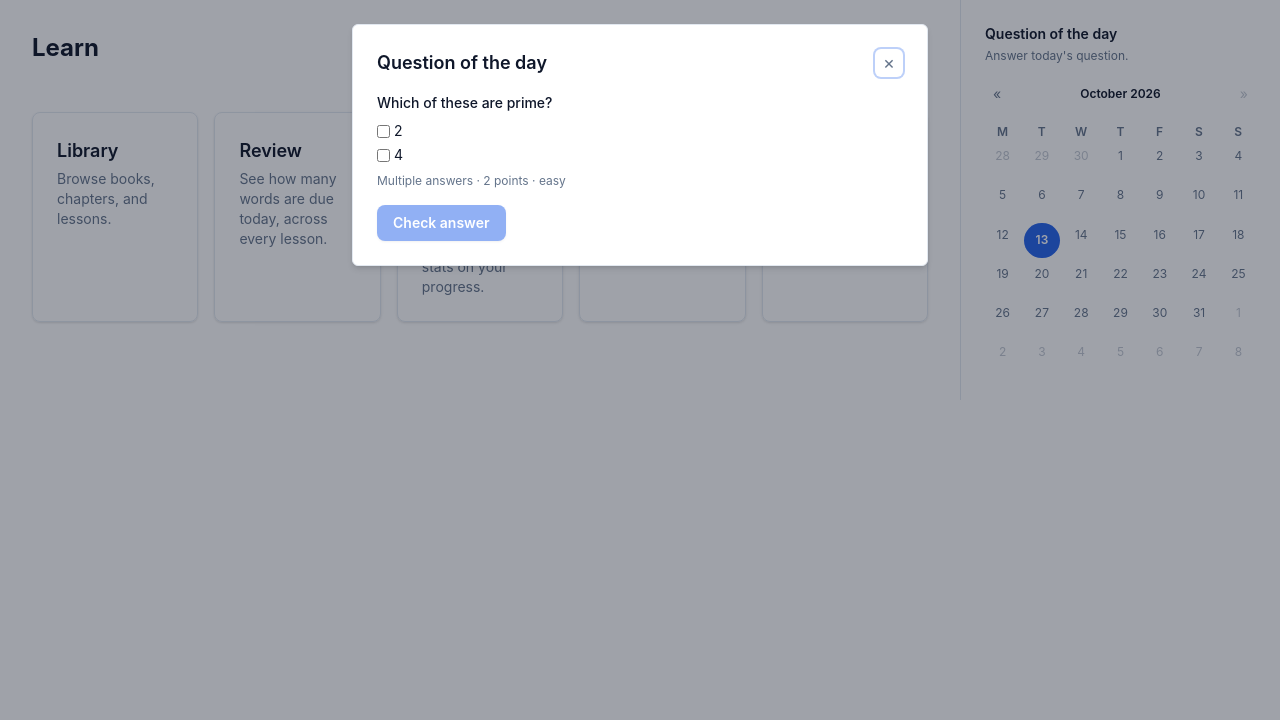
Test: LearnPage question of the day › stays closed even when the marker cannot be stored
This screenshot has width=1280, height=720.
Expected: the dialog is shown, x1=352 y1=24 x2=928 y2=266
What coordinates should you click on to do the following:
click the button named "Close"
I would click on:
 (889, 63)
Its box is x1=875 y1=49 x2=903 y2=77.
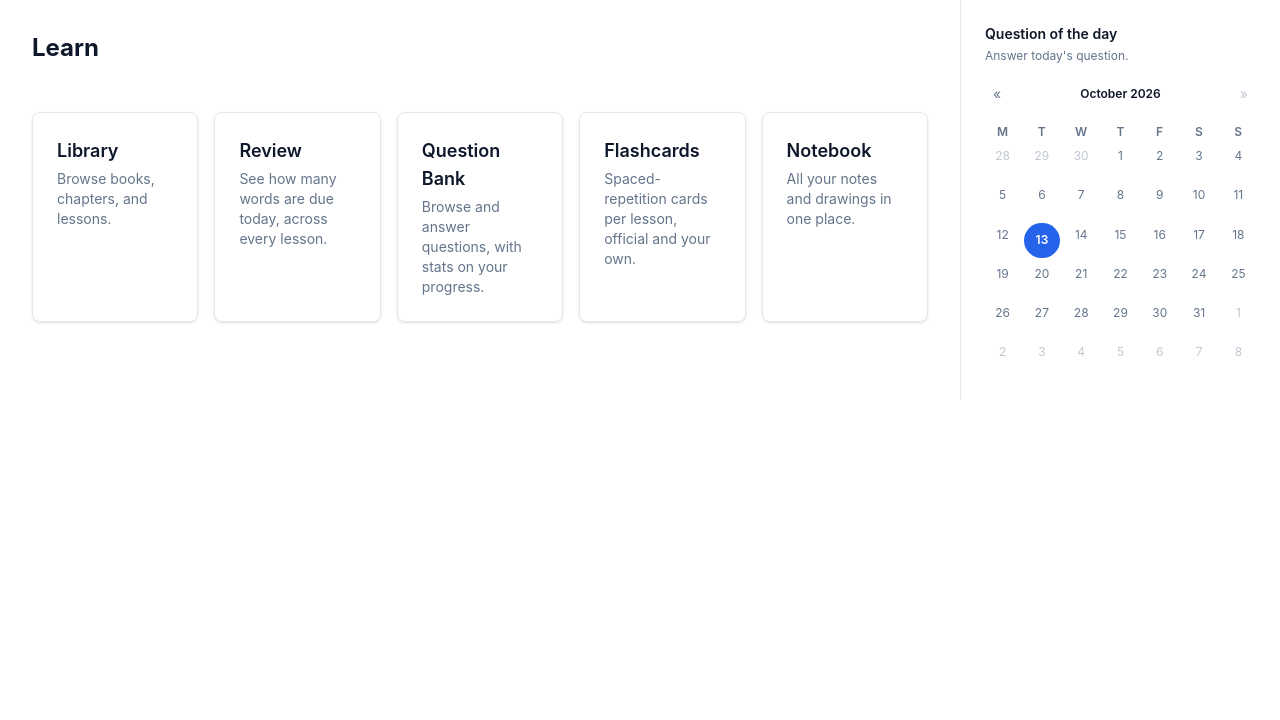
Expected: the dialog is gone
